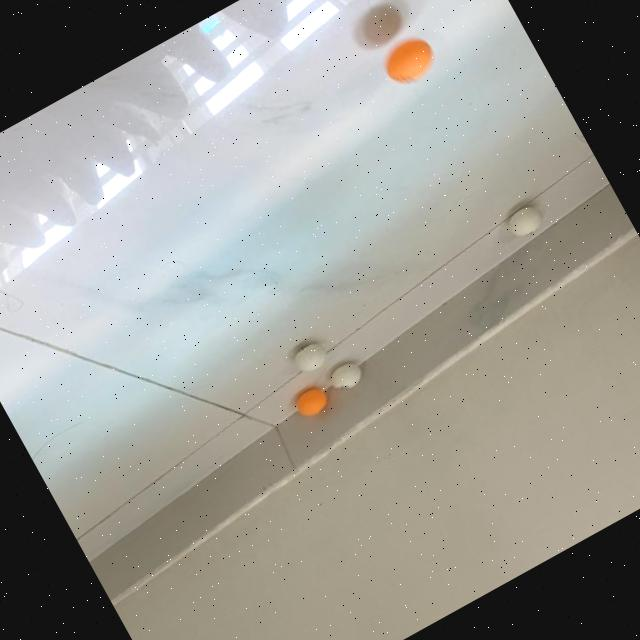ping-pong-ball: (378, 29, 442, 88), (503, 200, 548, 240), (287, 337, 331, 376), (292, 384, 332, 422), (326, 357, 366, 394)
